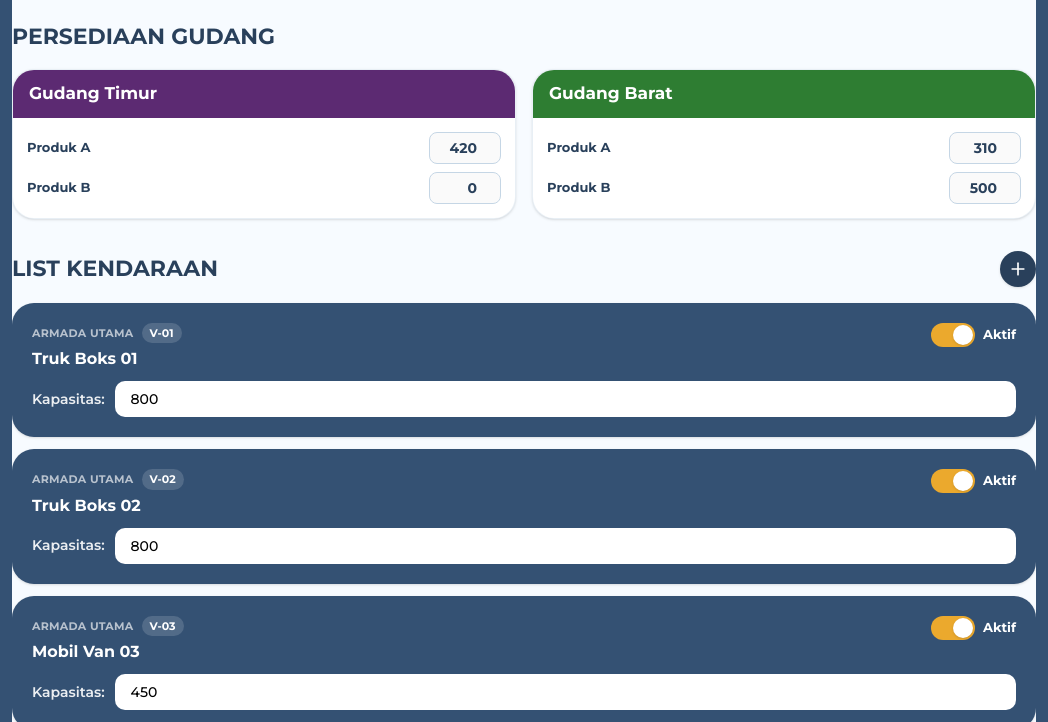
Test: OperationalEditor › adds, edits, deactivates, and removes a real custom vehicle payload
Click the button named "Tambah kendaraan" at point(1018, 268), box top-left (1000, 250), bottom-right (1036, 286)
(page scrolled)
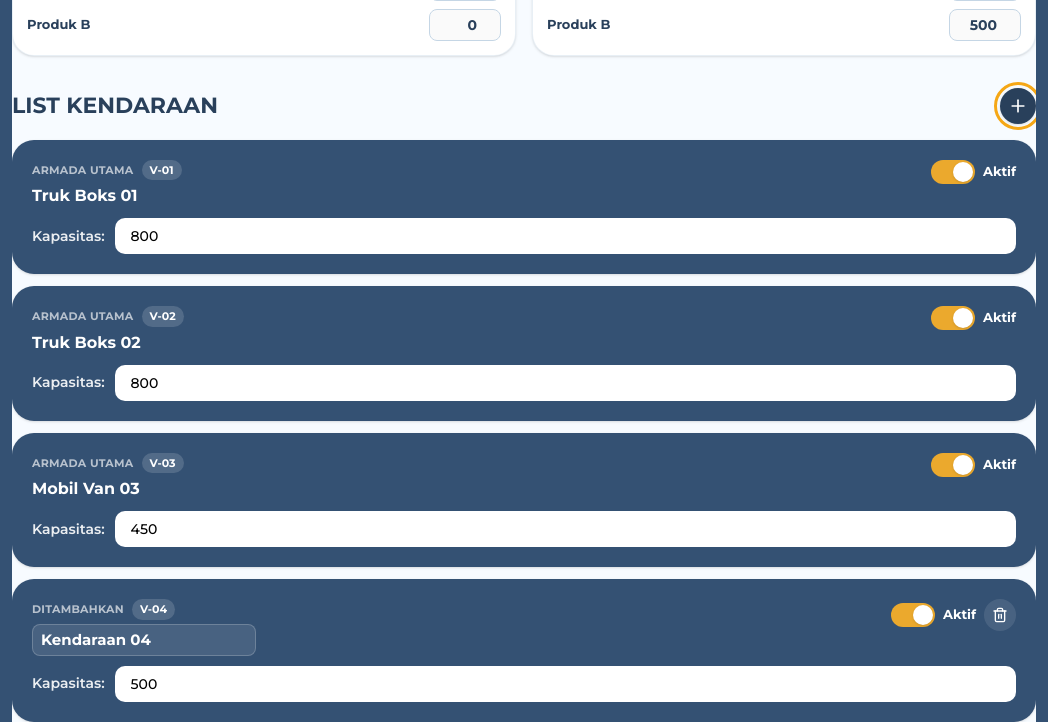
Now the text "V-04" is shown, box top-left (132, 599), bottom-right (175, 620)
Replace the text in the number field named "Kapasitas kendaraan V-04" with "900" at point(565, 684), box top-left (115, 666), bottom-right (1016, 702)
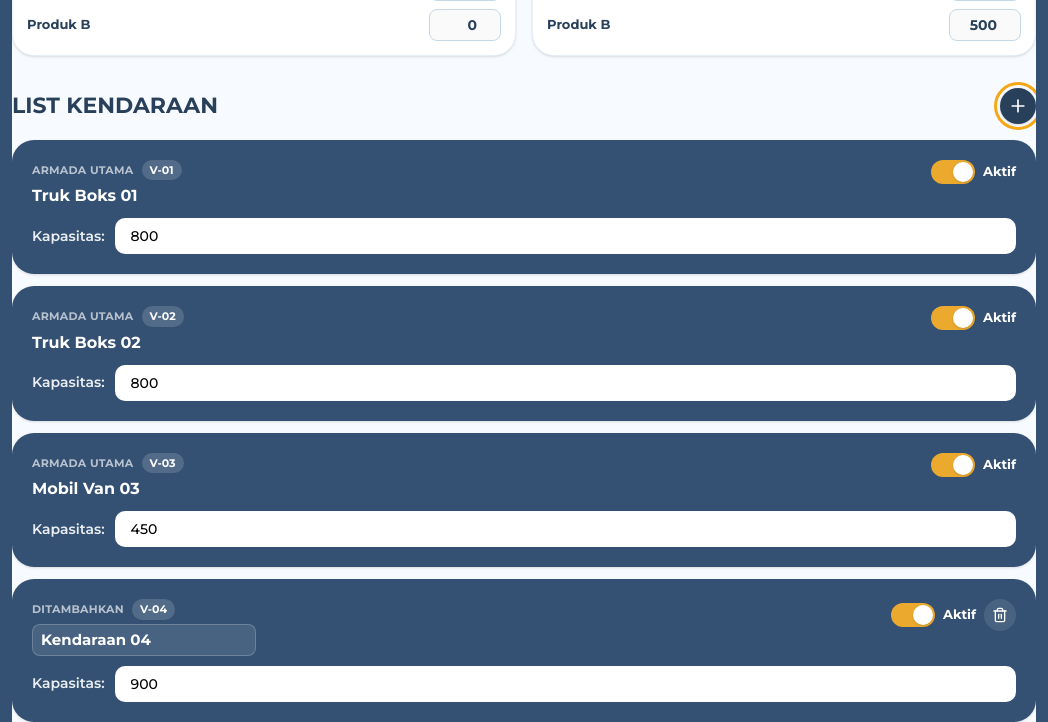
Replace the text in the field named "Nama kendaraan V-04" with "Armada Darurat" at point(144, 640), box top-left (32, 624), bottom-right (256, 656)
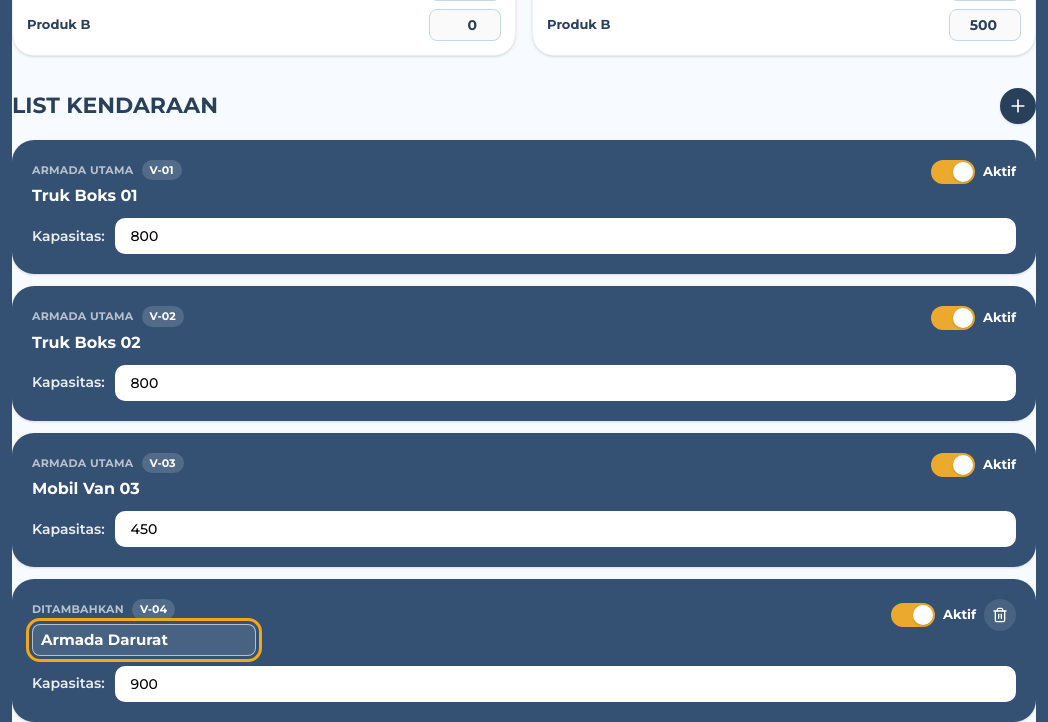
Click the switch named "Status kendaraan V-04" at point(913, 615), box top-left (891, 603), bottom-right (935, 627)
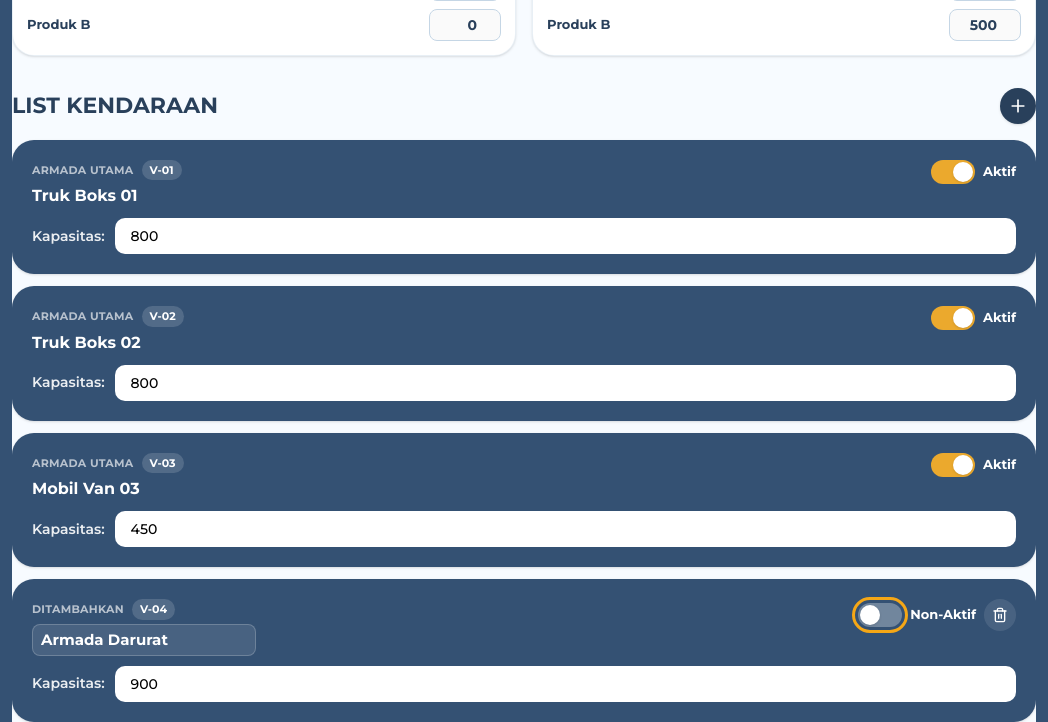
Click the button named "Hapus kendaraan V-04" at point(1000, 615), box top-left (984, 599), bottom-right (1016, 631)
(page scrolled)
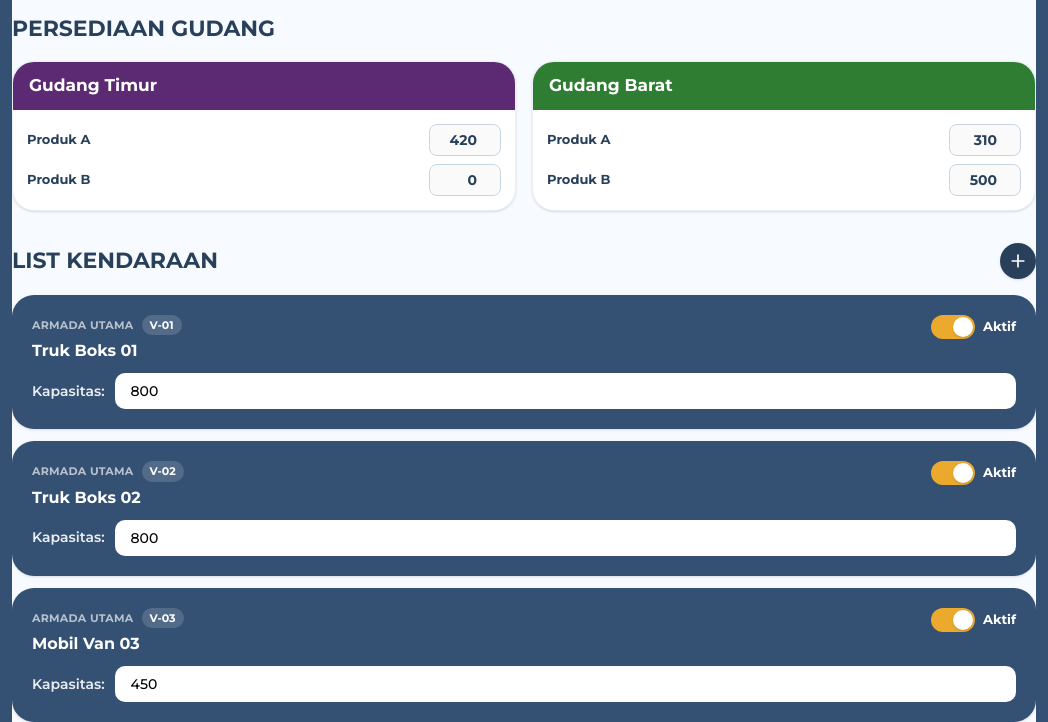
Now the text "V-04" is gone
